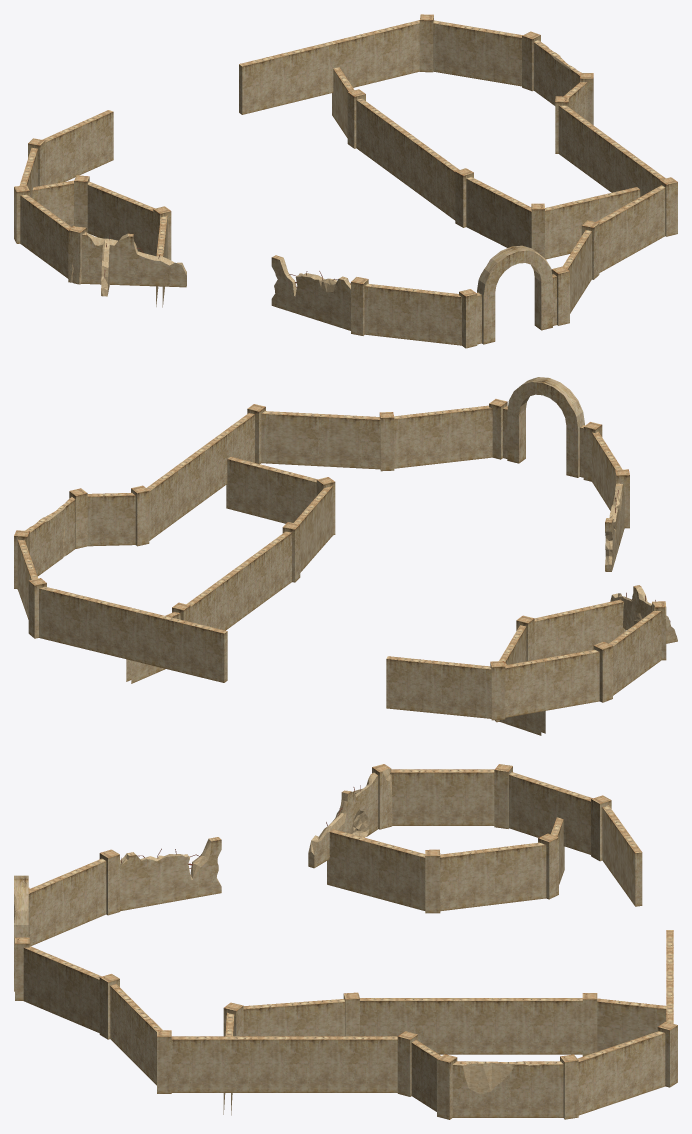
Rendered from poi_tato_farm_64x64_s02_l0.fbx.
3 renders of one model, top to bottom at view 1: azimuth 30°, elevation 25°; view 2: azimuth 150°, elevation 25°; view 3: azimuth 270°, elevation 25°, orthographic. The views are drawn at different scales.
Parts seen in each view (by area): view 1: mesh_node; view 2: mesh_node; view 3: mesh_node.
Part boxes in pixels (box(x1,y1,x2,y2)): mesh_node: box(14, 14, 677, 348); mesh_node: box(14, 377, 677, 735); mesh_node: box(14, 764, 677, 1119).
Size of the model in its own units: 47.95 by 9 by 45.03.
